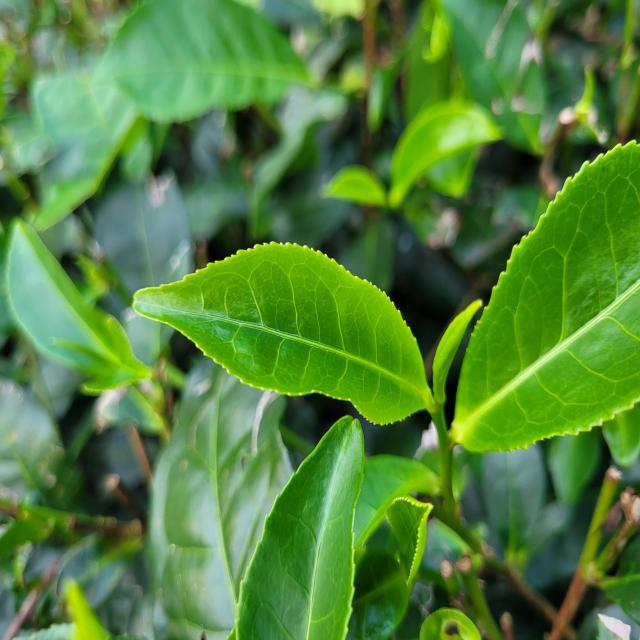Catagory A(1-2 days): (118, 212, 438, 508)
